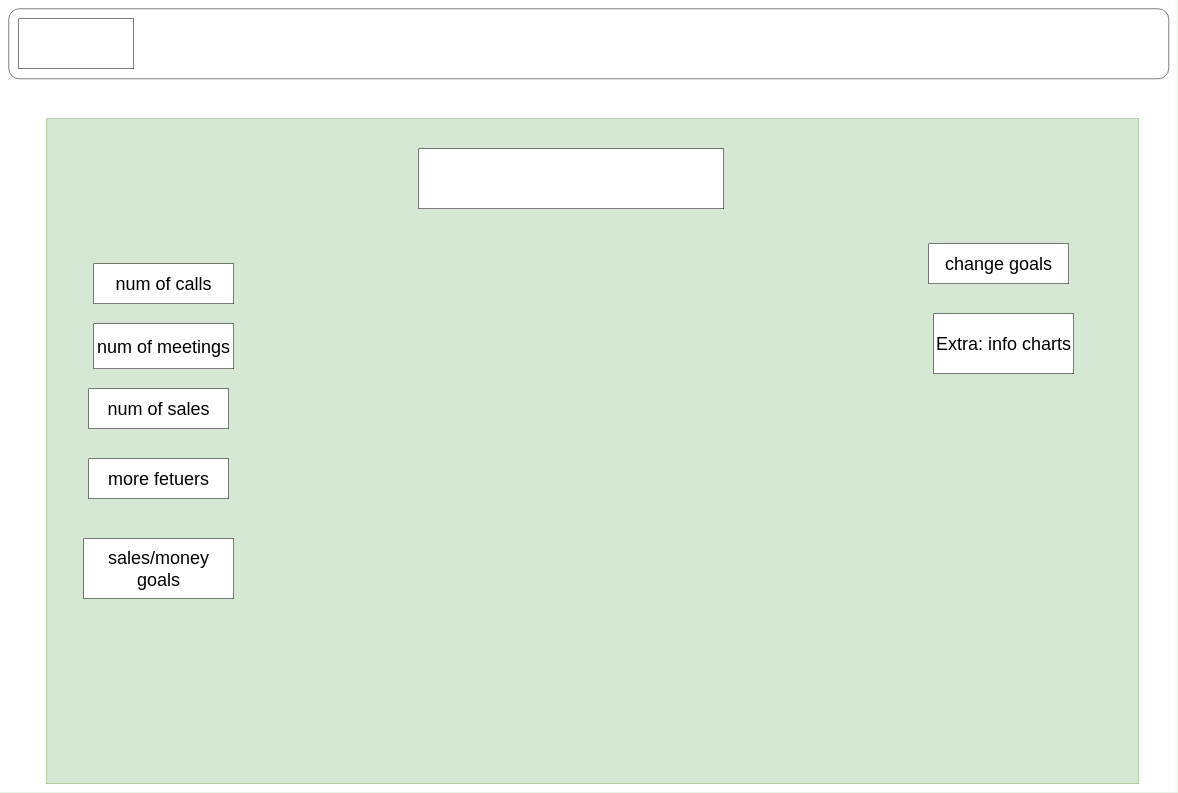
The diagram is 1178 pixels wide and 793 high, and some of its shapes have lost their labels. The box of each missing label's shape, as (x1, y1, x2, y2) in pixels:
BackToMenu: (18, 18, 134, 69)
yearly/monthely: (418, 148, 724, 209)
